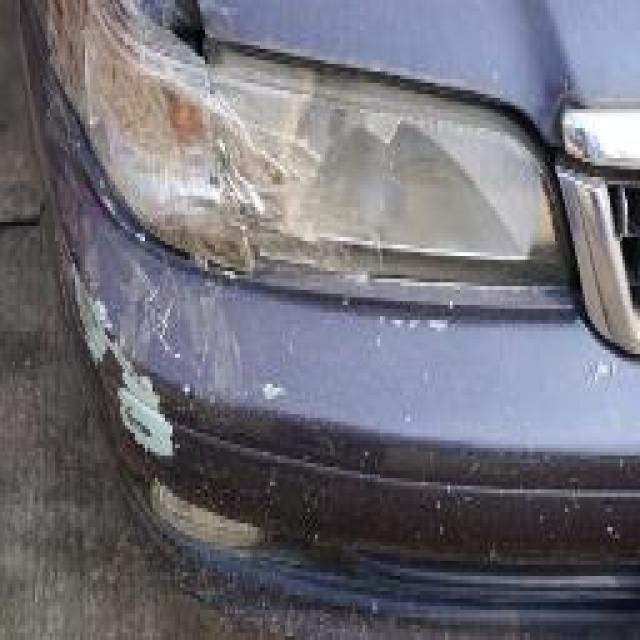Bumper: (30, 233, 465, 576)
Light: (68, 26, 302, 260)
